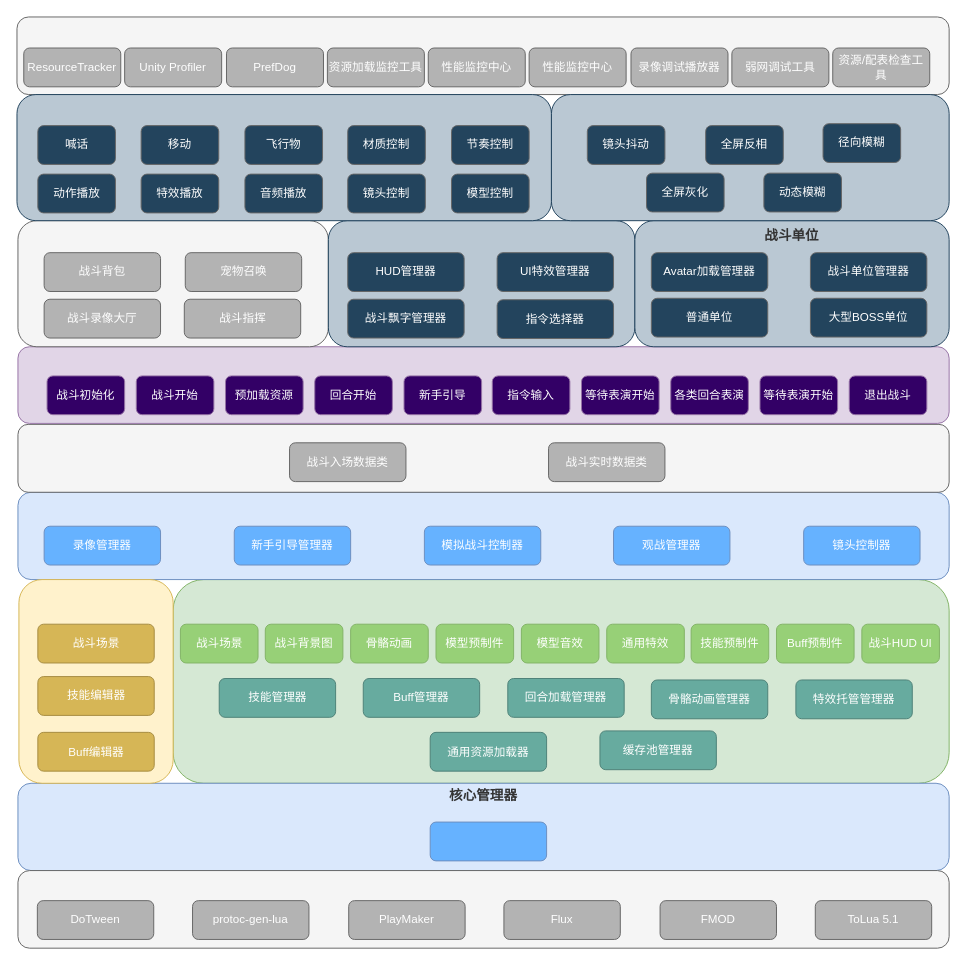
This 966x965 diagram has some shape labels left out. The shapes that lost their labels are listed below. From the top down, each one's box as (x1, y1, x2, y2) in pixels, then its label:
(16, 16, 949, 95): 性能剖析及调试
(16, 94, 551, 221): 技能表演脚本（ 60+个 ）
(550, 94, 949, 221): 摄像机后处理
(17, 220, 328, 347): 外围业务功能模块
(327, 220, 635, 347): 战斗UI
(17, 346, 949, 423): 战斗流程（20+个PlayMaker Action）
(17, 423, 949, 492): 全局数据
(17, 491, 949, 580): 功能管理器
(18, 579, 173, 783): 资源编辑器
(172, 579, 949, 783): 资源及管理器
(429, 821, 547, 861): 战斗控制器
(17, 870, 949, 948): 第三方类库
